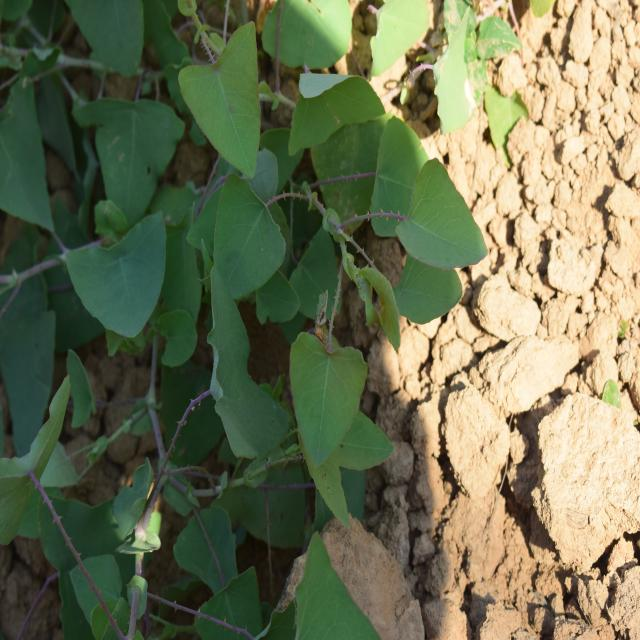Asiatic_Smartweed: (0, 68, 197, 390), (288, 49, 473, 312), (161, 21, 294, 363)
